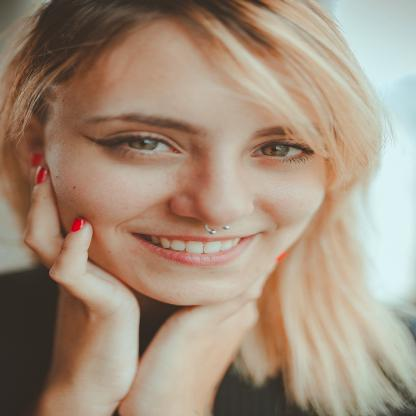Eye: (98, 130, 186, 165), (249, 138, 319, 166)
Mouth: (132, 232, 260, 266)
Nose: (170, 162, 254, 226)
